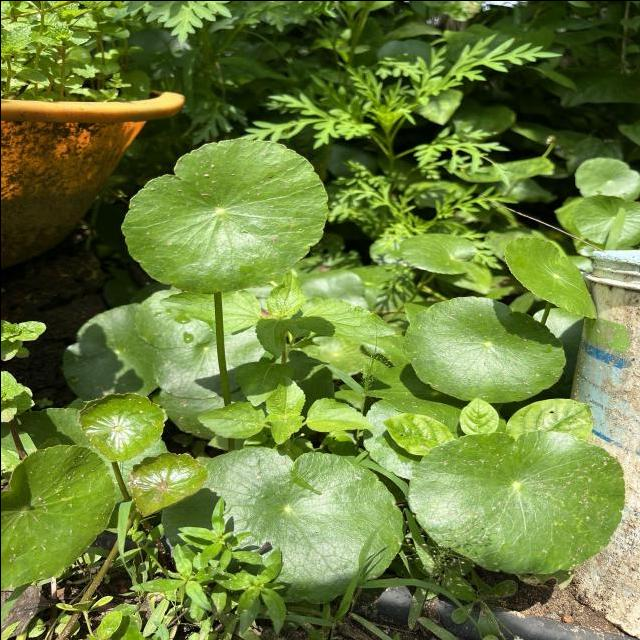Bacopa monnieri: (118, 134, 330, 299), (404, 426, 626, 576), (399, 291, 569, 404), (0, 442, 116, 592), (500, 232, 599, 322), (75, 390, 167, 463), (126, 449, 210, 518)
